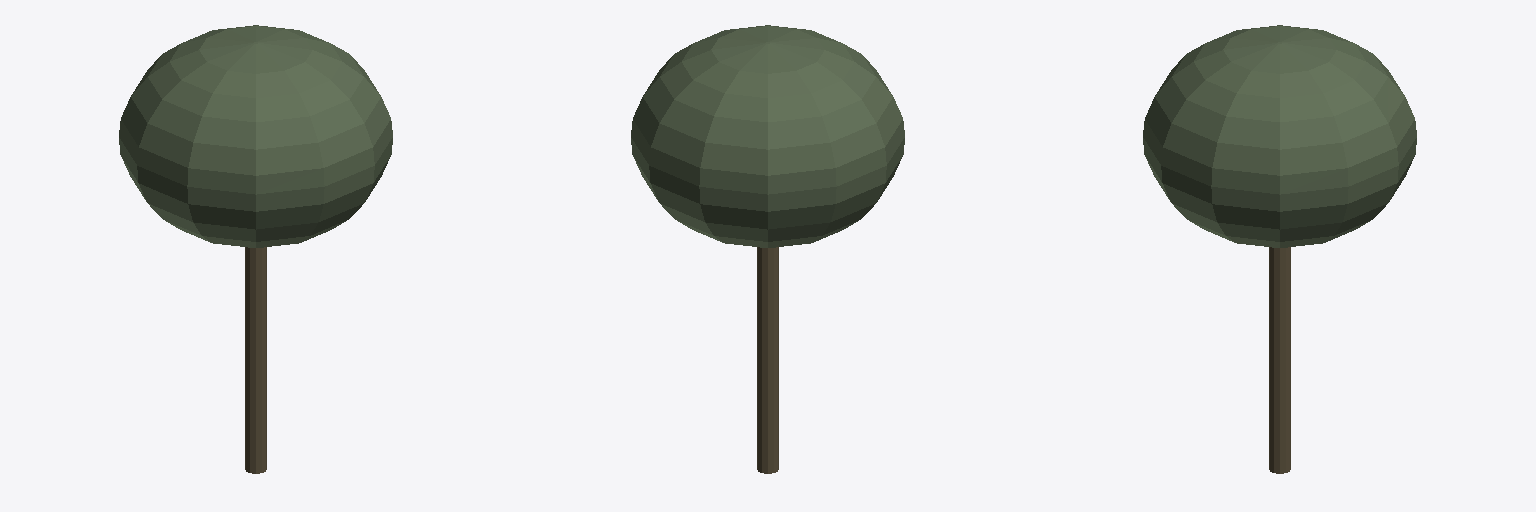
Rendered from Date_Palm_Analytical_0.obj.
The picture shows the model from 3 angles: view 1: azimuth 30°, elevation 25°; view 2: azimuth 150°, elevation 25°; view 3: azimuth 270°, elevation 25°; orthographic projection.
Parts seen in each view (by area): view 1: AnalyticalCrown, AnalyticalTrunk; view 2: AnalyticalCrown, AnalyticalTrunk; view 3: AnalyticalCrown, AnalyticalTrunk.
Part boxes in pixels (bbox=[...]): AnalyticalCrown: bbox=[119, 25, 392, 247]; AnalyticalTrunk: bbox=[245, 247, 266, 473]; AnalyticalCrown: bbox=[631, 25, 904, 247]; AnalyticalTrunk: bbox=[757, 247, 778, 473]; AnalyticalCrown: bbox=[1143, 25, 1416, 247]; AnalyticalTrunk: bbox=[1269, 247, 1290, 473].
Bounding box in the file's own units: 13.12 × 22.5 × 13.12.